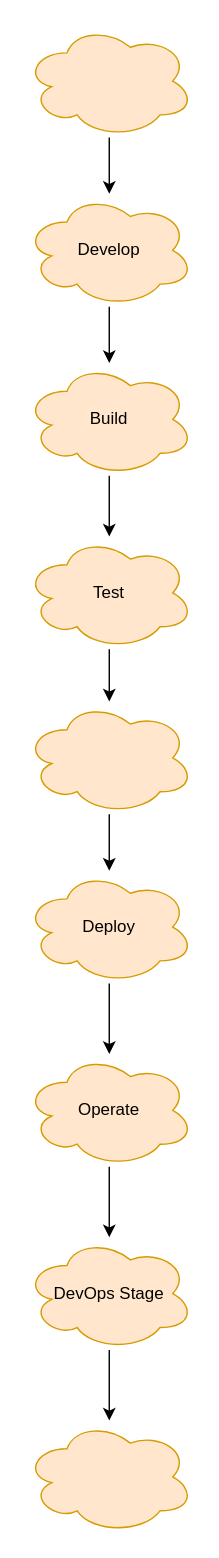
This 219x1558 diagram has some shape labels left out. Each missing label, with the centre of its shape:
"Monitor" goes at [108,1476].
"Plan" goes at [108,80].
"Release" goes at [108,757].
